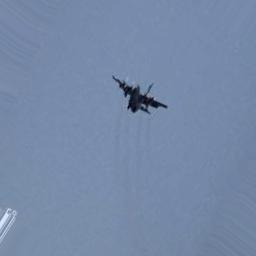Airplane: (111, 75, 168, 116)
